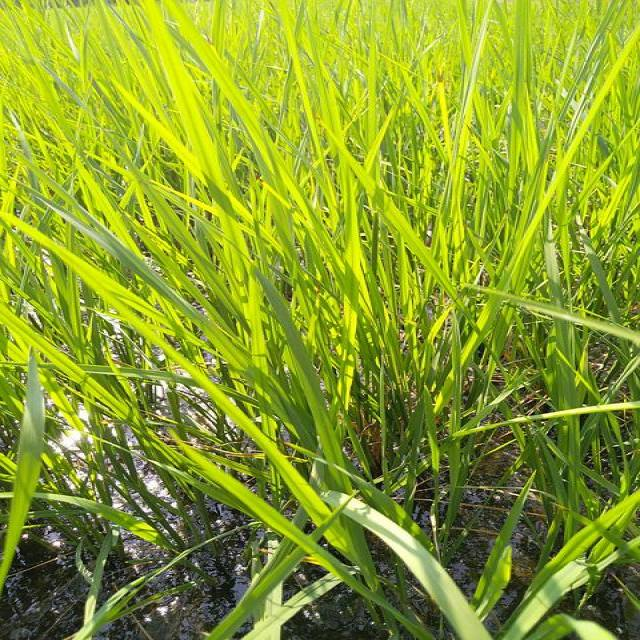Rice: (150, 5, 262, 345), (327, 486, 483, 640), (159, 436, 328, 566), (4, 217, 152, 343), (266, 272, 352, 482), (0, 362, 52, 584), (264, 144, 336, 276), (510, 558, 613, 640), (333, 184, 361, 424), (547, 488, 637, 562), (542, 222, 568, 464), (451, 104, 474, 277)
